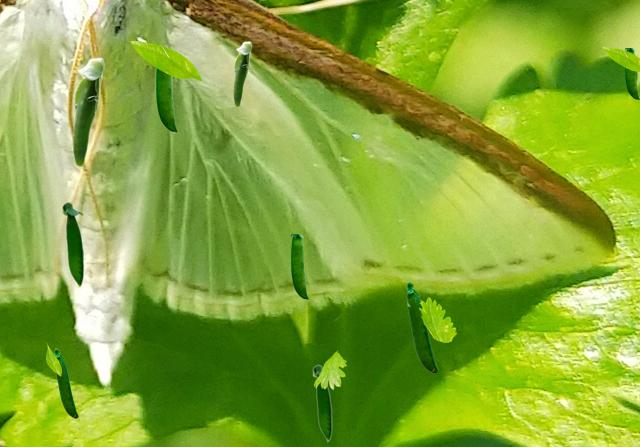pea: (72, 57, 104, 166), (406, 281, 437, 372), (61, 201, 83, 288), (54, 348, 77, 417), (312, 364, 331, 442), (156, 69, 176, 132), (233, 41, 251, 106), (291, 234, 307, 299), (625, 48, 638, 99)
